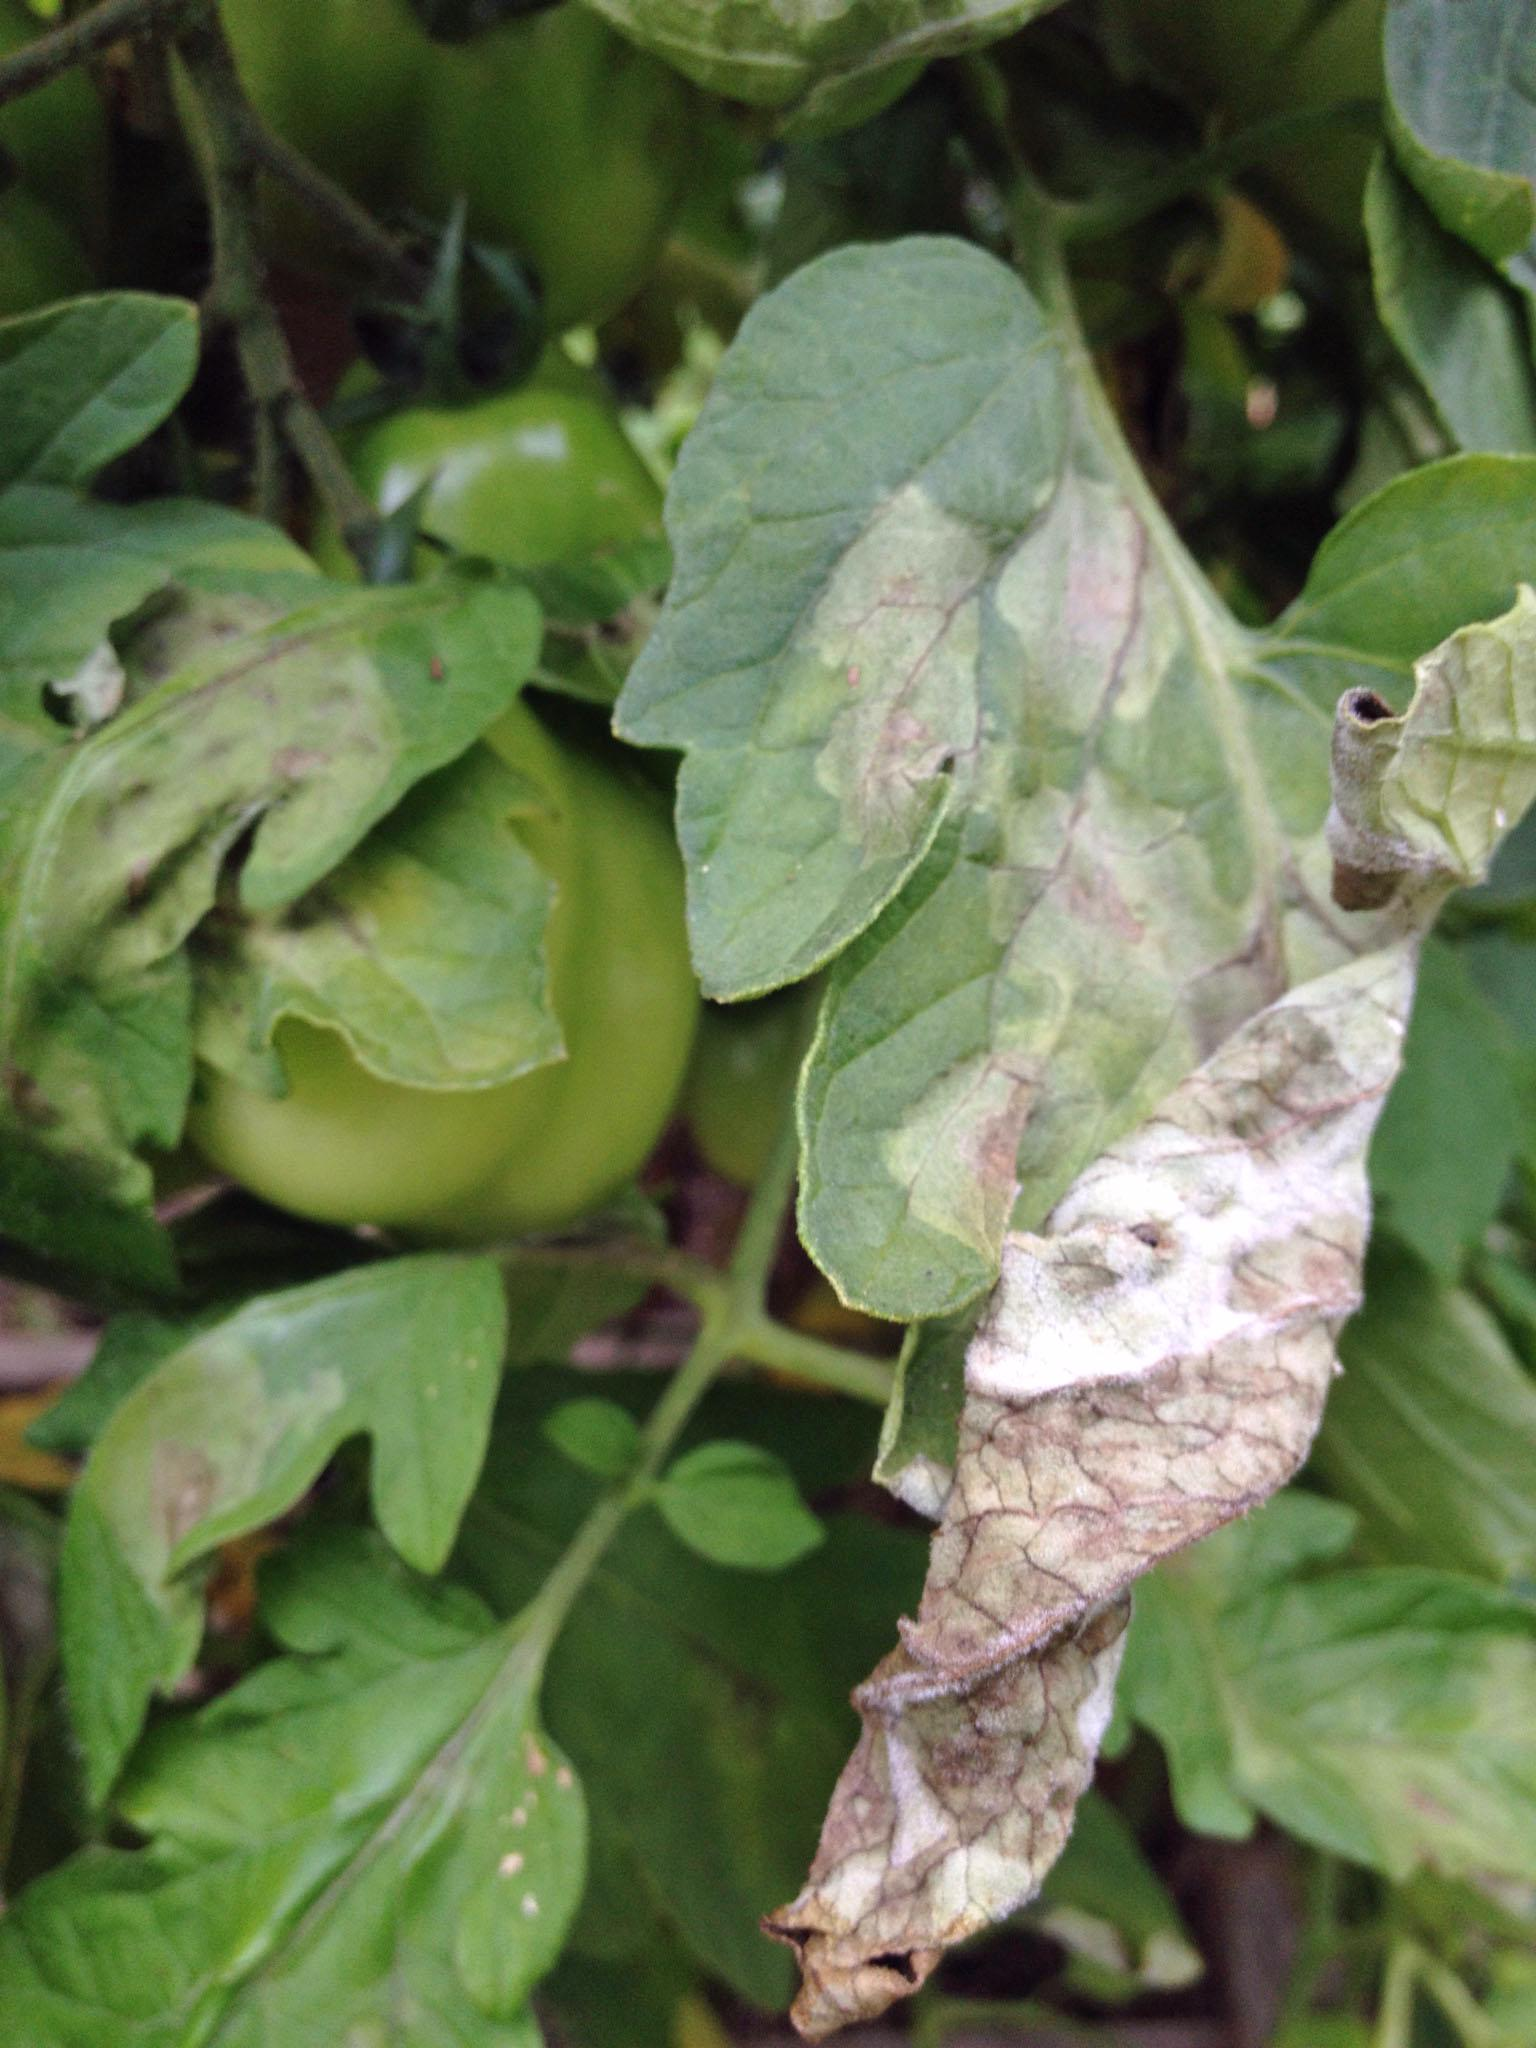Tomato leaf late blight: (771, 461, 1271, 1350), (623, 161, 1083, 1043), (15, 1184, 637, 1755), (0, 543, 541, 1034)
